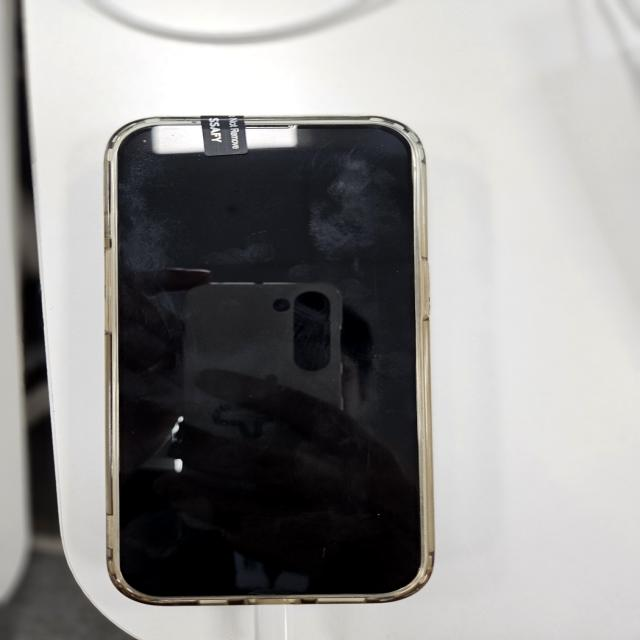phone: (102, 115, 436, 600)
sticker: (200, 112, 249, 156)
